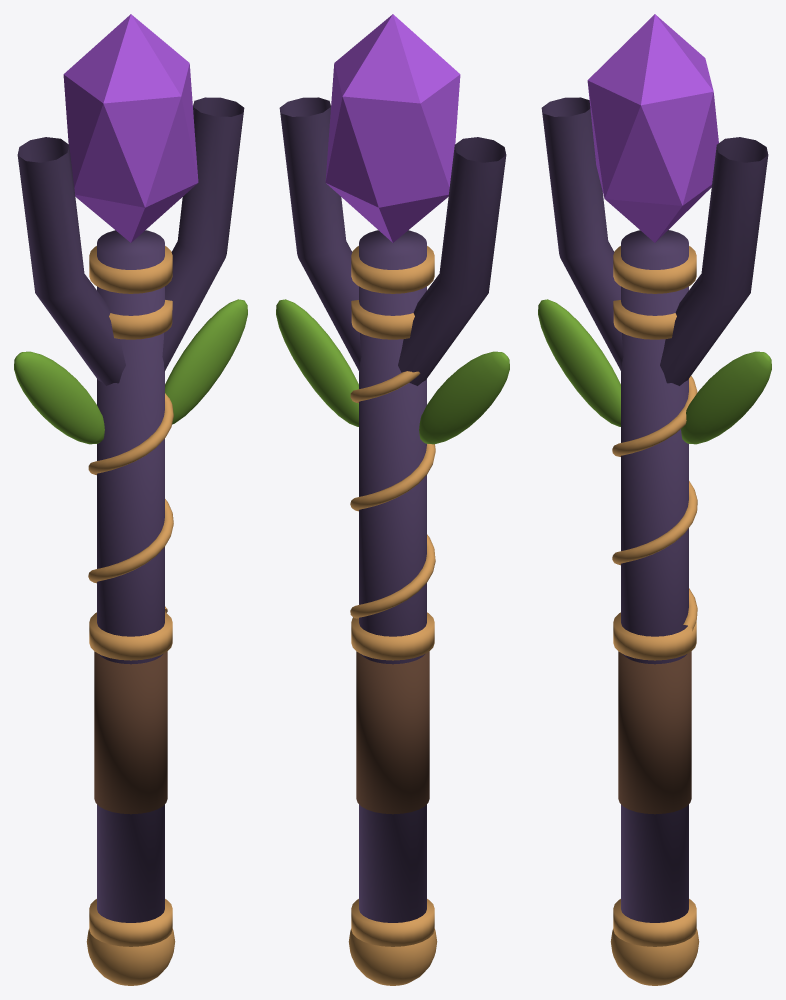
The model's file is neant.glb.
The picture shows the model from 3 angles, left to right: view 1: azimuth 30°, elevation 25°; view 2: azimuth 150°, elevation 25°; view 3: azimuth 330°, elevation 25°; orthographic projection.
Visible parts, largest first — view 1: Arme_neant; view 2: Arme_neant; view 3: Arme_neant.
Part boxes in pixels (box(x1,y1,x2,y2)): Arme_neant: box(14, 14, 247, 985); Arme_neant: box(276, 14, 509, 985); Arme_neant: box(538, 14, 771, 985).
Size of the model in its own units: 0.2126 by 0.845 by 0.1021.
